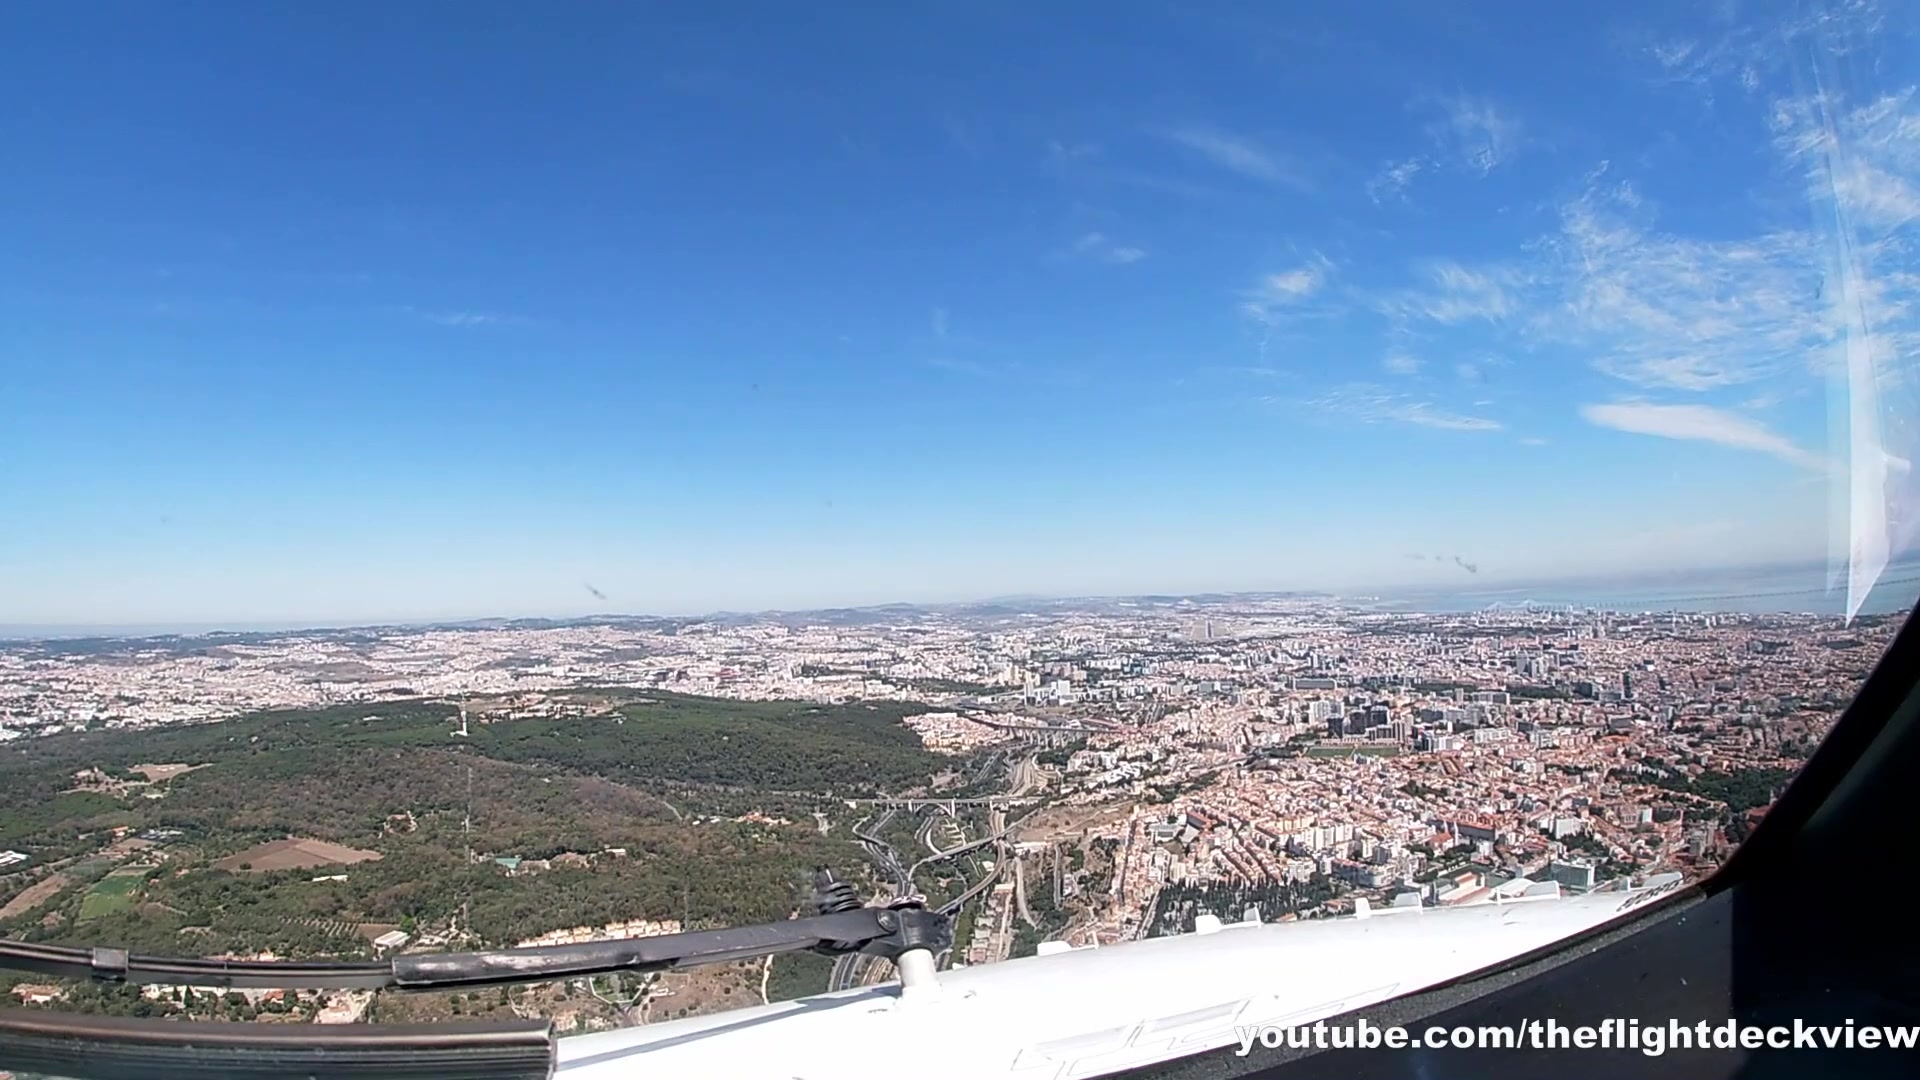runway: (1203, 621, 1215, 641)
